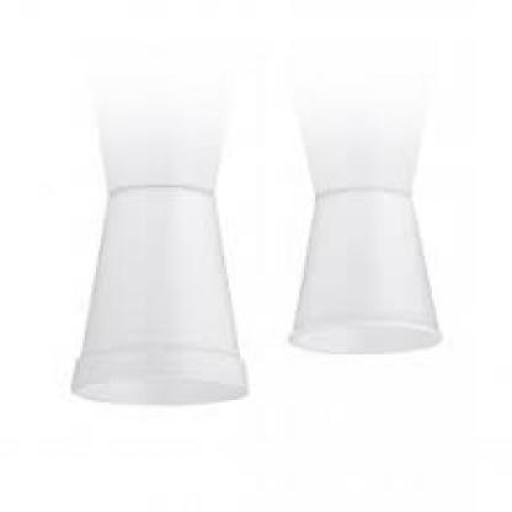paper: (68, 190, 244, 409), (289, 187, 436, 357)
